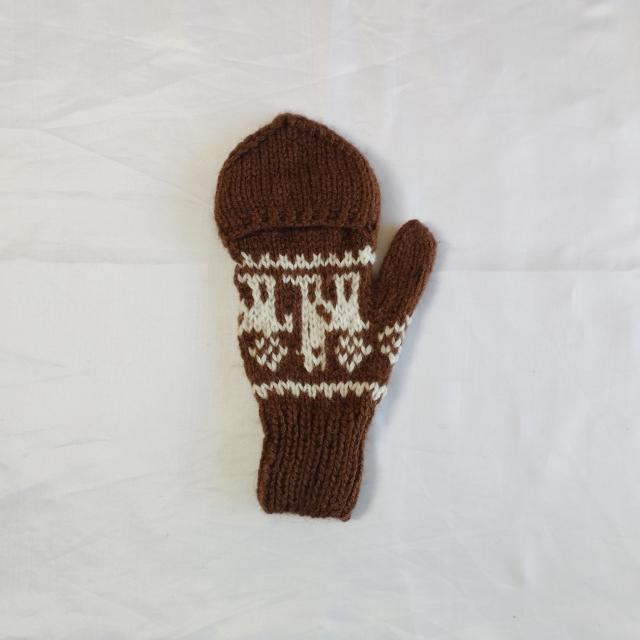Guante: (212, 110, 438, 522)
